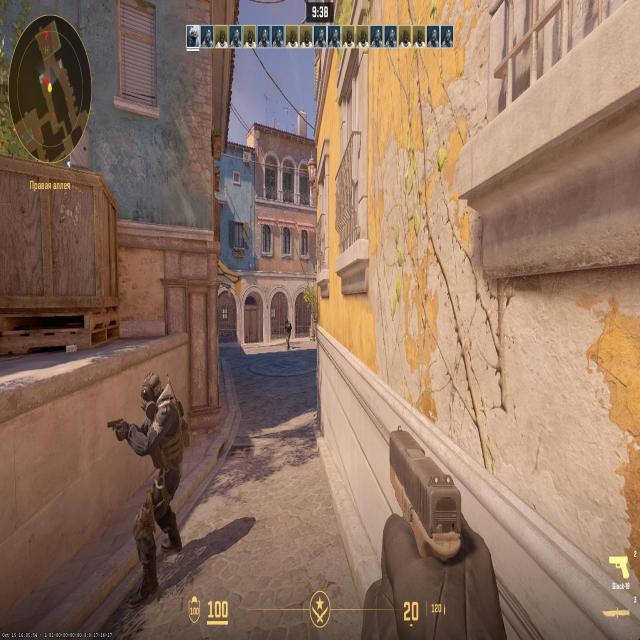CT: (146, 379, 174, 551), (286, 323, 292, 346)
CT_heat: (150, 376, 164, 409), (287, 322, 289, 325)
